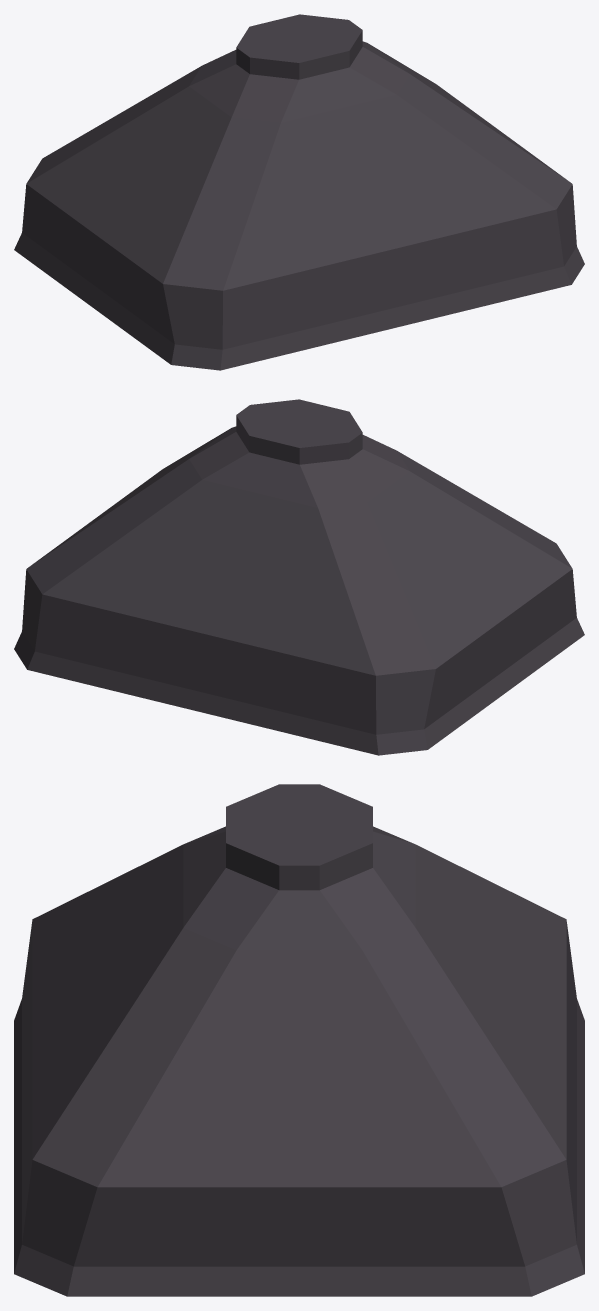
File: SM_lamp_power.fbx
3 renders of one model, top to bottom at view 1: azimuth 30°, elevation 25°; view 2: azimuth 150°, elevation 25°; view 3: azimuth 270°, elevation 25°, orthographic. The views are drawn at different scales.
Parts seen in each view (by area): view 1: lamp_power; view 2: lamp_power; view 3: lamp_power.
Boxes of the visible parts, box(x1,y1,x2,y2) form: lamp_power: box(14, 14, 584, 370); lamp_power: box(14, 399, 584, 755); lamp_power: box(14, 784, 584, 1296).
Bounding box in the file's own units: 55.37 × 27.91 × 44.78.
